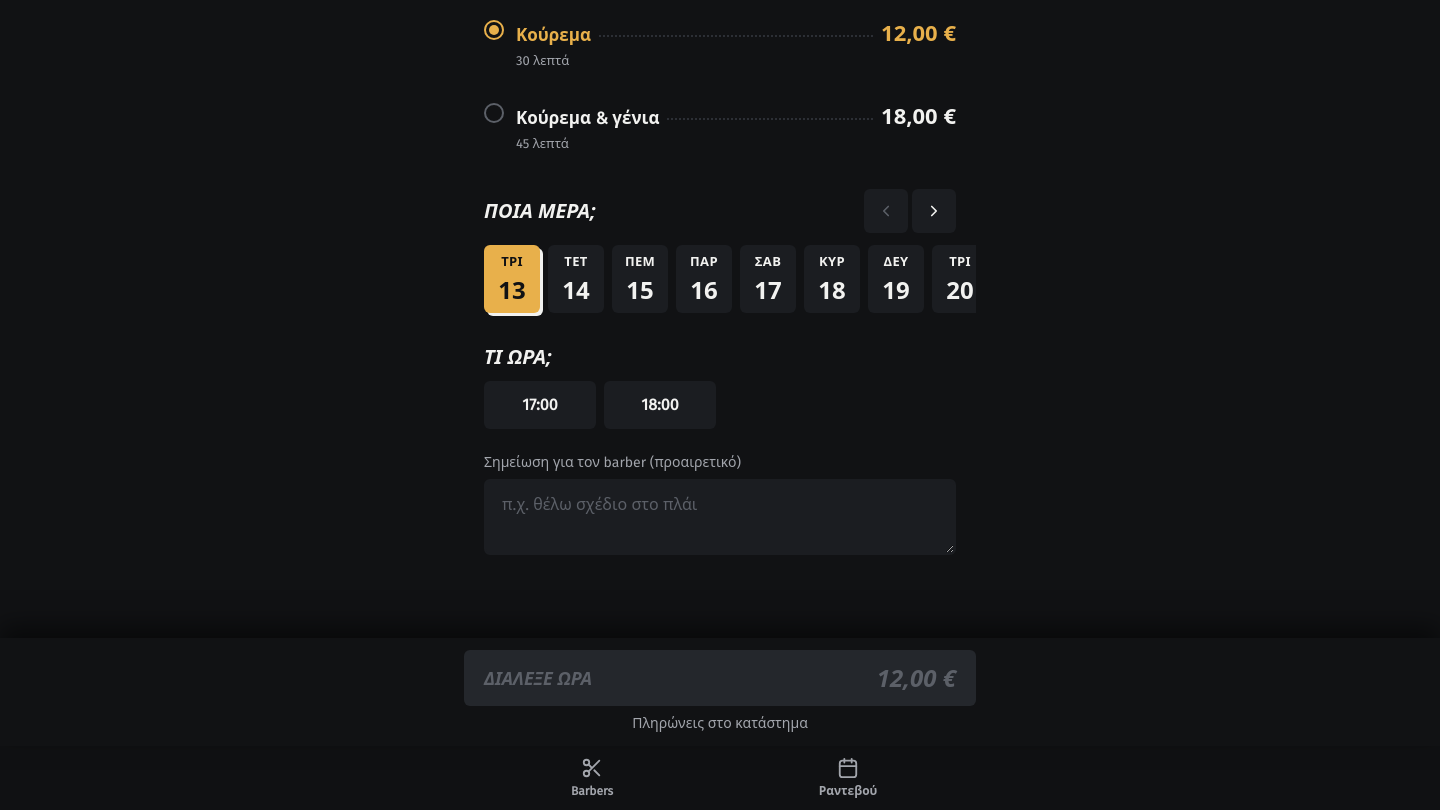
Test: books the chosen service, day and time
(page scrolled)
Expected: the radio button labelled "Κούρεμα 12,00 € 30 λεπτά" is checked, [484,4,956,82]
Step 1. Click the button "18:00" → (660, 405), box [604,381,716,429]
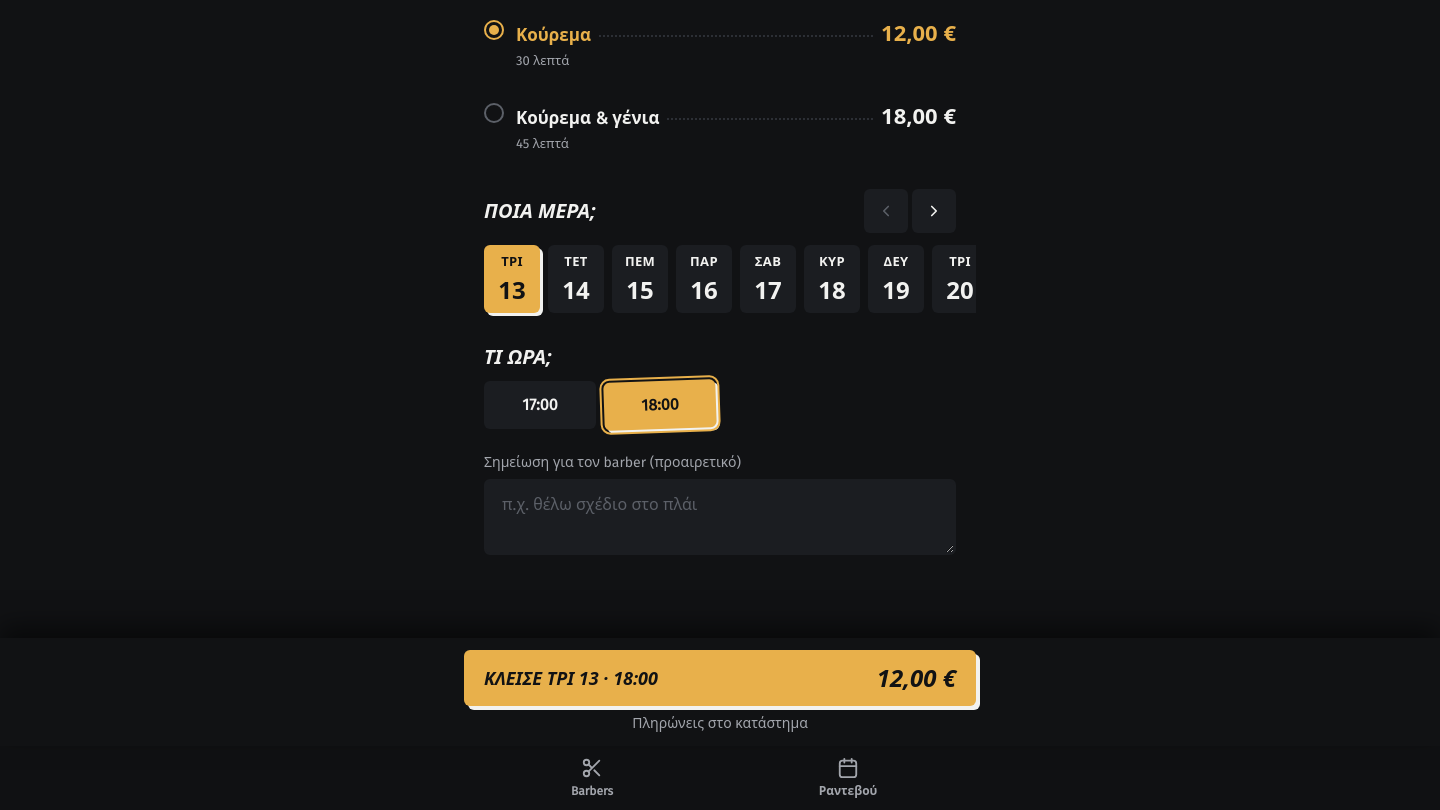
Step 2. Click the button "Κλείσε Τρί 13 · 18:00 12,00 €" → (571, 678), box [464,650,976,706]
(page scrolled)
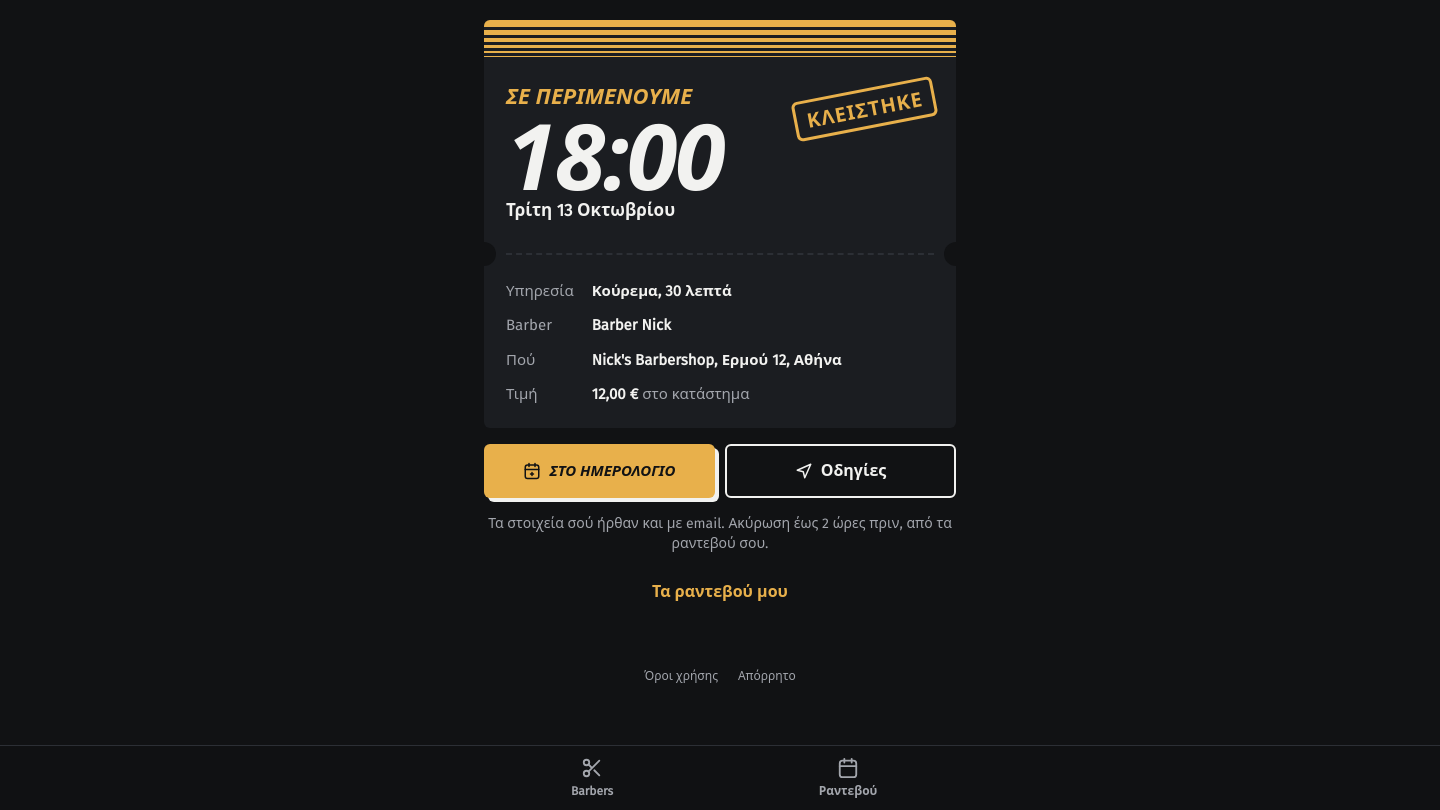
Expected: the text "Κλείστηκε" is shown, [790,76,938,142]
Expected: the text "Τρίτη 13 Οκτωβρίου" is shown, [506,200,675,221]
Expected: the button "Στο ημερολόγιο" is shown, [484,444,715,498]
